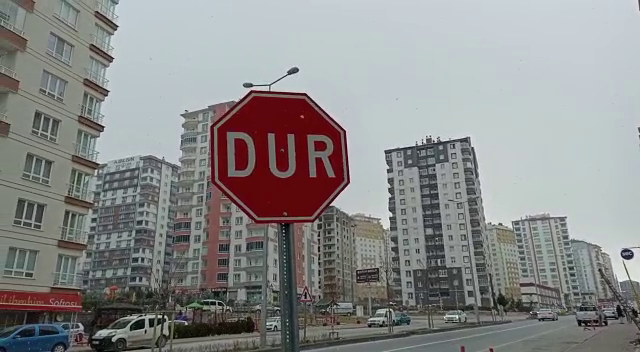stop: (207, 88, 354, 226)
